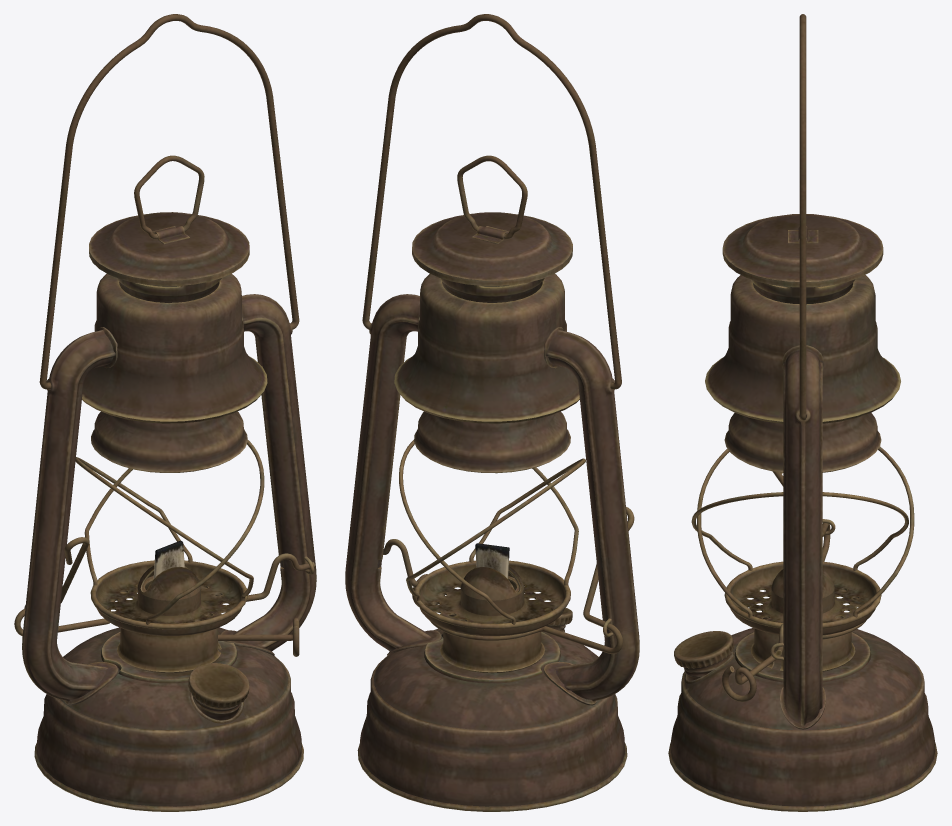
File: lantern.glb
3 renders of one model, left to right at view 1: azimuth 30°, elevation 25°; view 2: azimuth 150°, elevation 25°; view 3: azimuth 270°, elevation 25°, orthographic.
Parts seen in each view (by area): view 1: Lantern_01; view 2: Lantern_01; view 3: Lantern_01.
Part boxes in pixels (x1,y1,x2,y2): Lantern_01: [14, 14, 316, 811]; Lantern_01: [345, 14, 639, 811]; Lantern_01: [668, 14, 937, 811].
Bounding box in the file's own units: 0.1221 × 0.2942 × 0.0972.
1 material, 1 textured.
